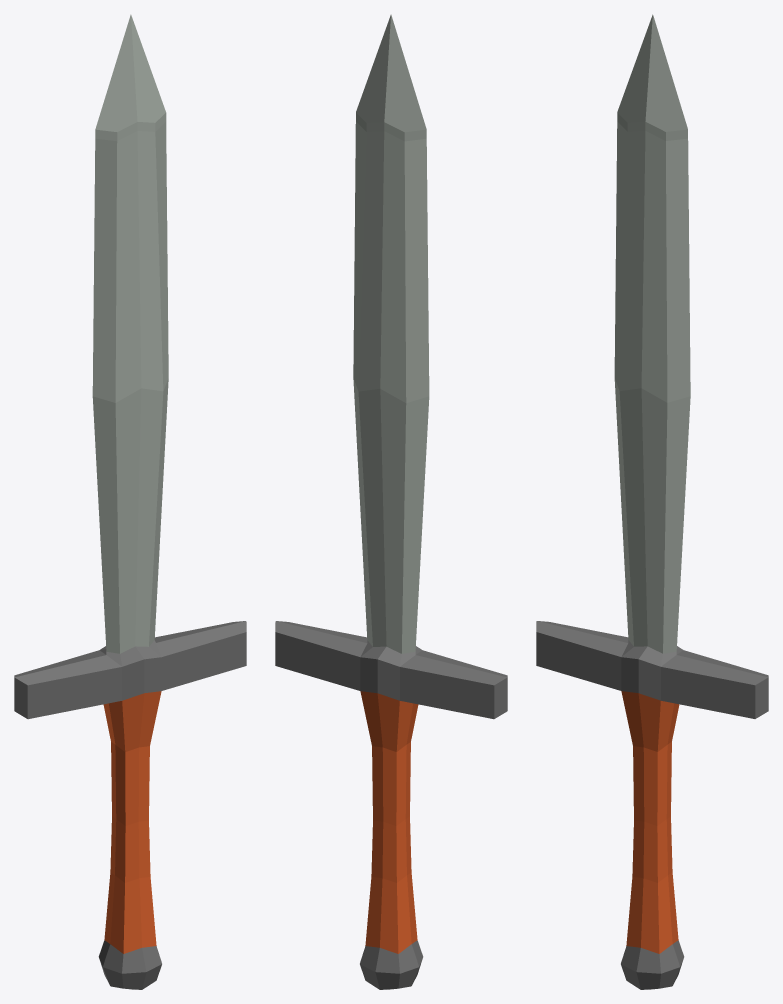
The model's file is testSword.fbx.
3 views of the same model, side by side, from view 1: azimuth 30°, elevation 25°; view 2: azimuth 150°, elevation 25°; view 3: azimuth 330°, elevation 25° (orthographic).
Parts seen in each view (by area): view 1: Cube; view 2: Cube; view 3: Cube.
Boxes of the visible parts, bbox=[...] form: Cube: bbox=[14, 14, 246, 989]; Cube: bbox=[275, 14, 507, 989]; Cube: bbox=[536, 14, 768, 989].
Bounding box in the file's own units: 24.88 × 99.97 × 5.96.
